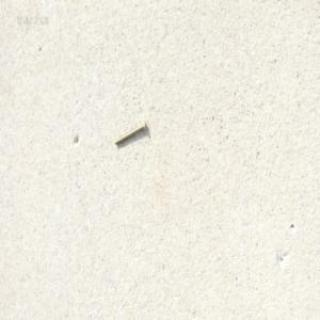Bolttrack_idkeyframe: (112, 119, 146, 145)
